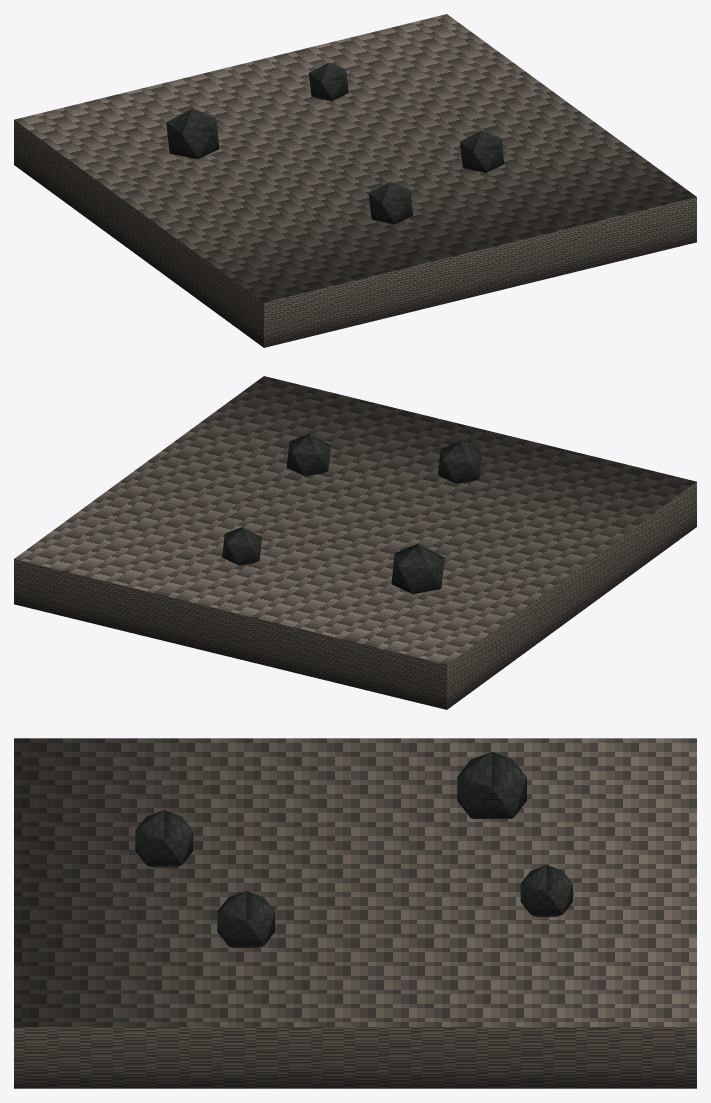
Rendered from ground_gravel.gltf.
The picture shows the model from 3 angles, top to bottom: view 1: azimuth 30°, elevation 25°; view 2: azimuth 150°, elevation 25°; view 3: azimuth 270°, elevation 25°; orthographic projection. The views are drawn at different scales.
Visible parts, largest first — view 1: ground_gravel; view 2: ground_gravel; view 3: ground_gravel.
Boxes of the visible parts, bbox=[...] form: ground_gravel: bbox=[14, 14, 696, 347]; ground_gravel: bbox=[14, 376, 696, 709]; ground_gravel: bbox=[14, 738, 696, 1088].
Size of the model in its own units: 1 by 0.19 by 1.
Materials: 1 (1 with a texture image).
